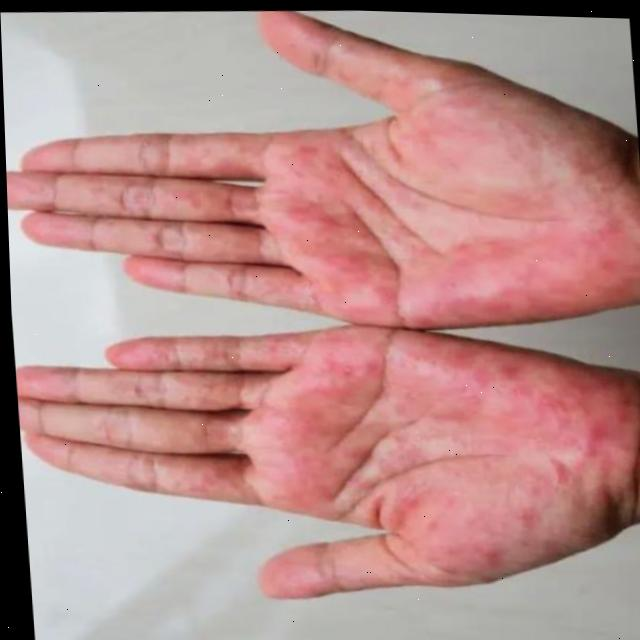Eczema: (111, 117, 617, 538)
